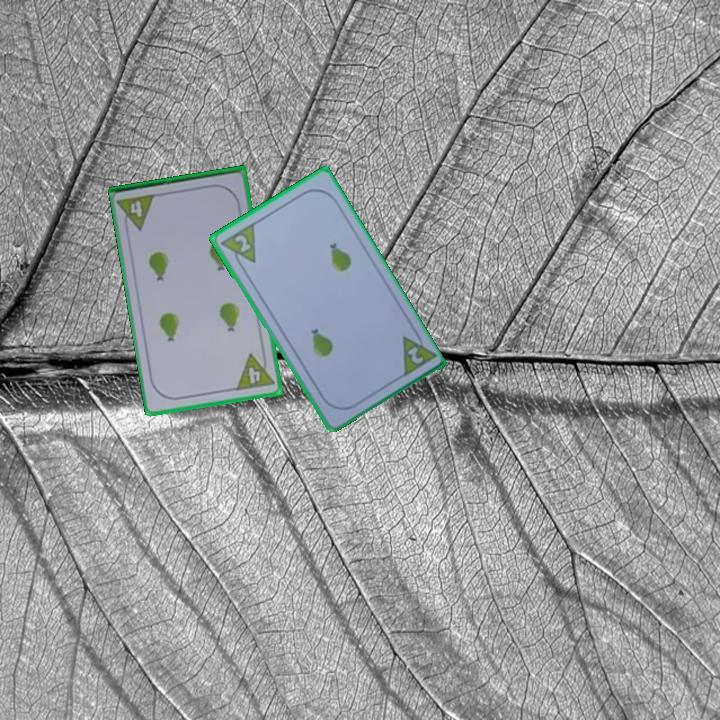2p: (216, 219, 259, 272), (403, 342, 426, 367)
4p: (233, 348, 277, 393), (115, 191, 159, 234)
